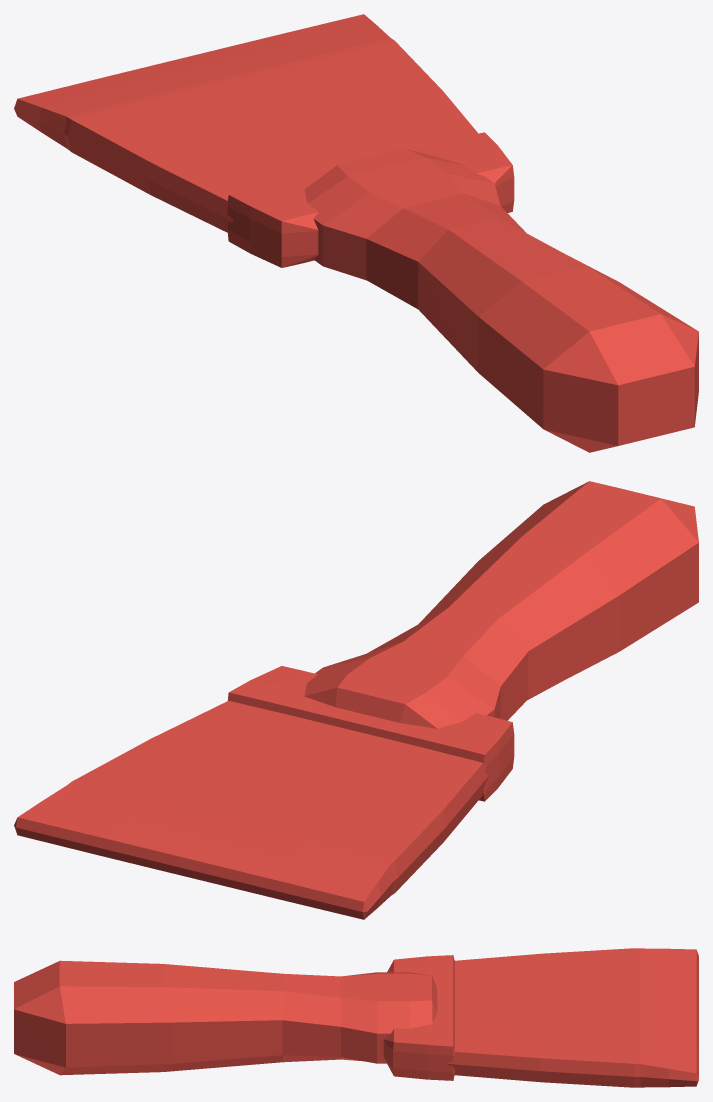
Rendered from Scraper.fbx.
3 renders of one model, top to bottom at view 1: azimuth 30°, elevation 25°; view 2: azimuth 150°, elevation 25°; view 3: azimuth 270°, elevation 25°, orthographic. The views are drawn at different scales.
Visible parts, largest first — view 1: Scraper; view 2: Scraper; view 3: Scraper.
Part boxes in pixels (bbox=[...]): Scraper: bbox=[14, 14, 698, 452]; Scraper: bbox=[14, 481, 698, 919]; Scraper: bbox=[14, 948, 698, 1087].
Size of the model in its own units: 0.0772 by 0.1768 by 0.0253.
